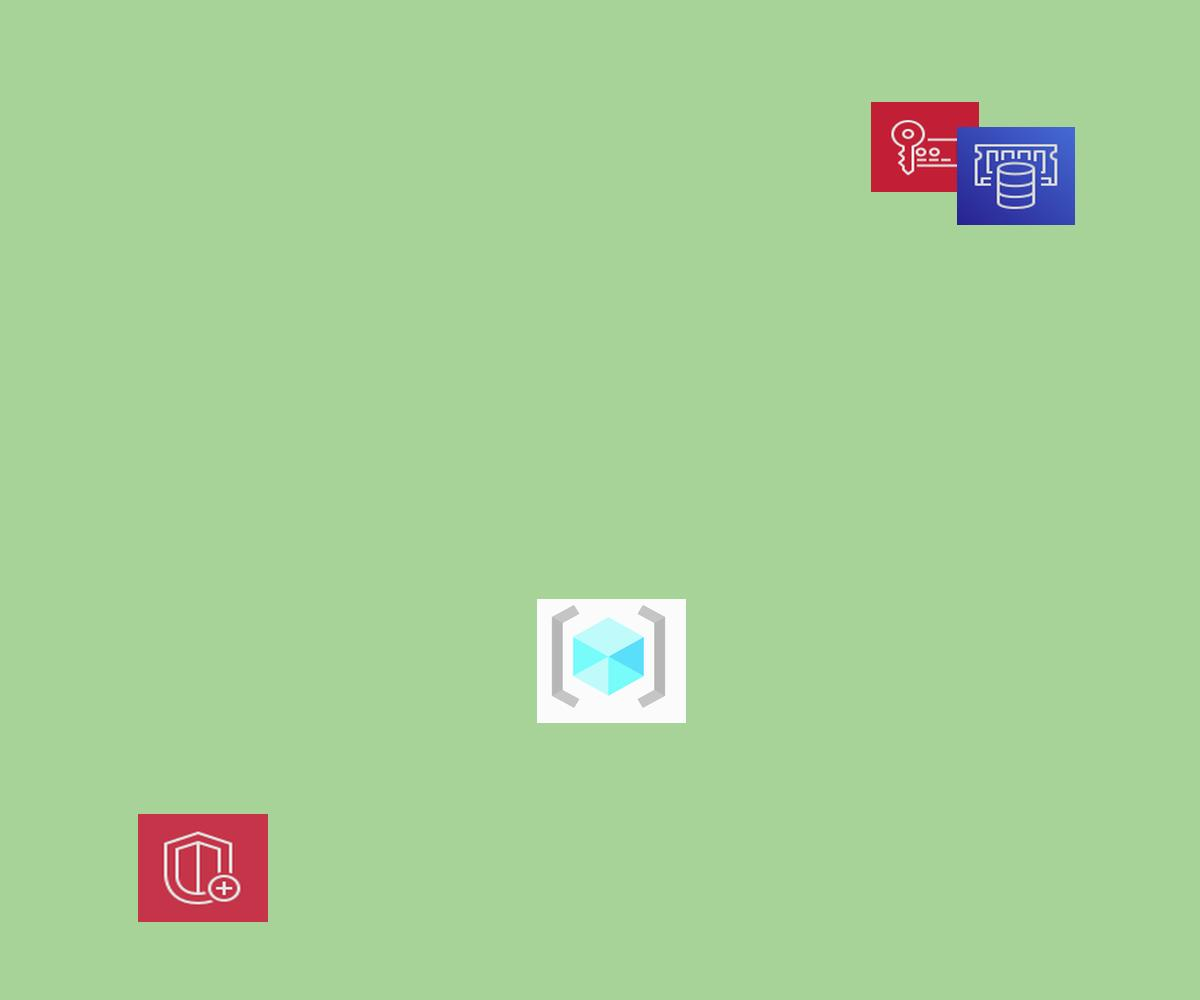AWS-ElastiCache: (957, 127, 1075, 225)
AWS-Key-Management-Service: (871, 102, 979, 192)
AWS-Shield: (138, 814, 268, 922)
Azure_resource_group: (537, 599, 686, 723)
